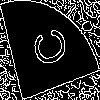C: (25, 25, 69, 73)
